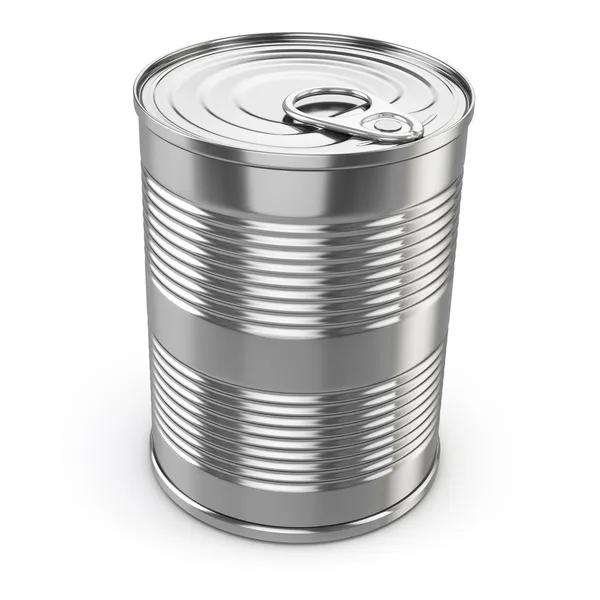metal: (134, 33, 472, 542)
